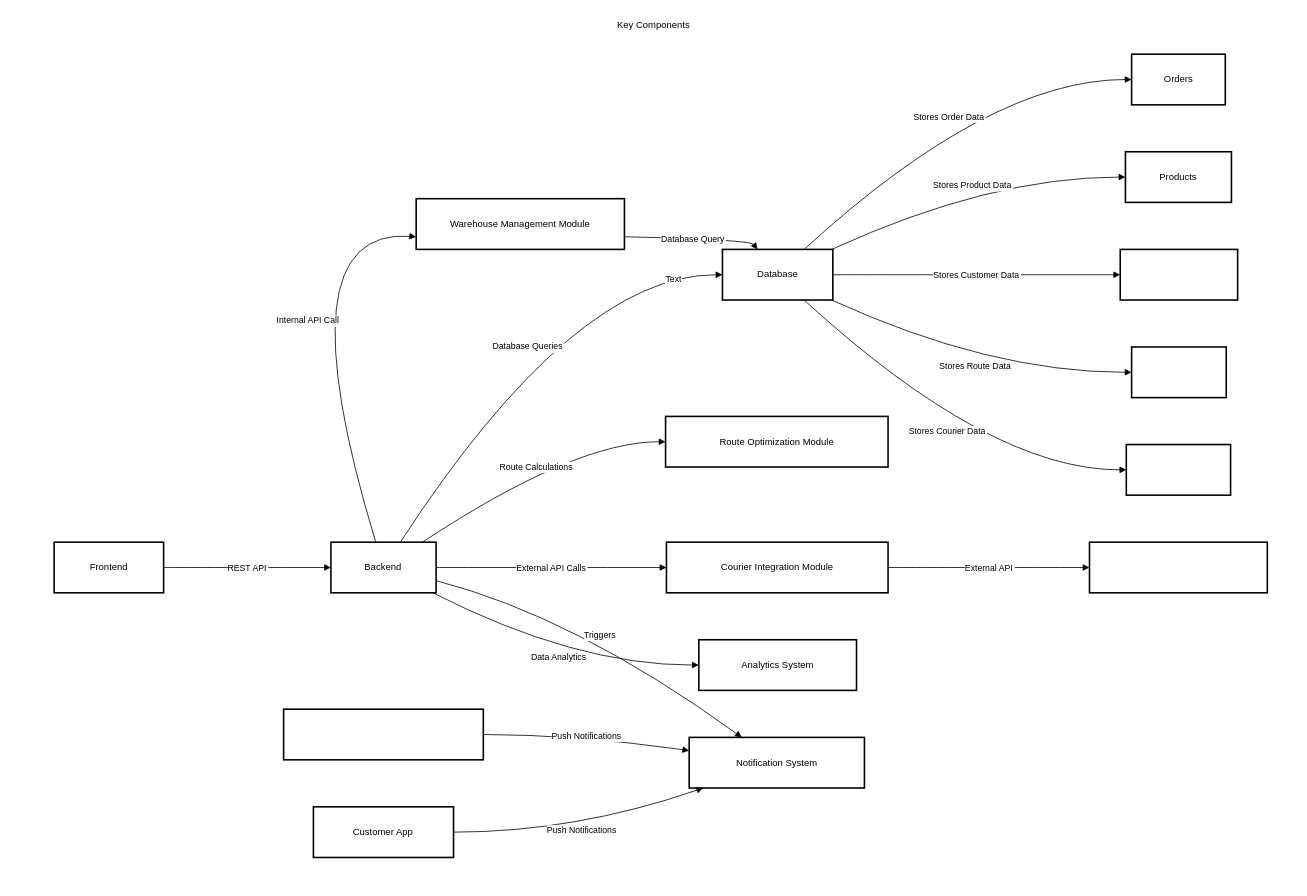
Image size: 1307x896. Some labels were removed from this diagram. Here are the shapes that lost their labels. From the top down, the centre of each, then its label:
(1178,274): Customers
(1178,372): Routes
(1178,469): Couriers
(1178,567): Courier Services API
(383,734): Mobile App for Couriers
